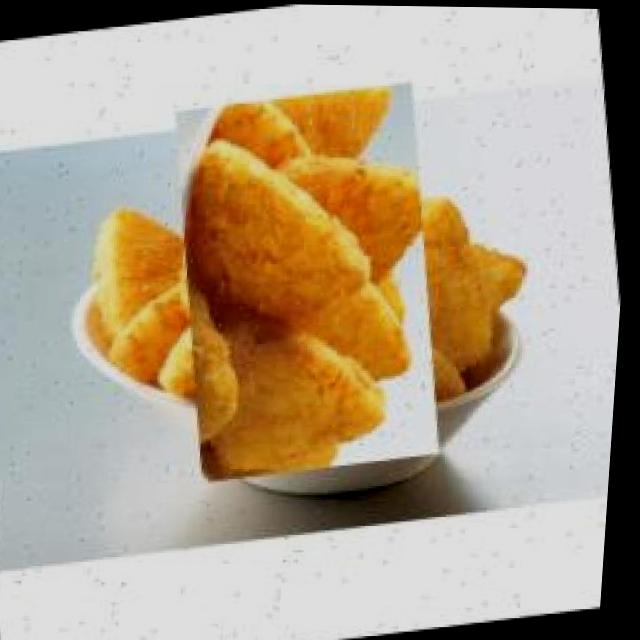triangle_hash_brown: (129, 107, 492, 456)
